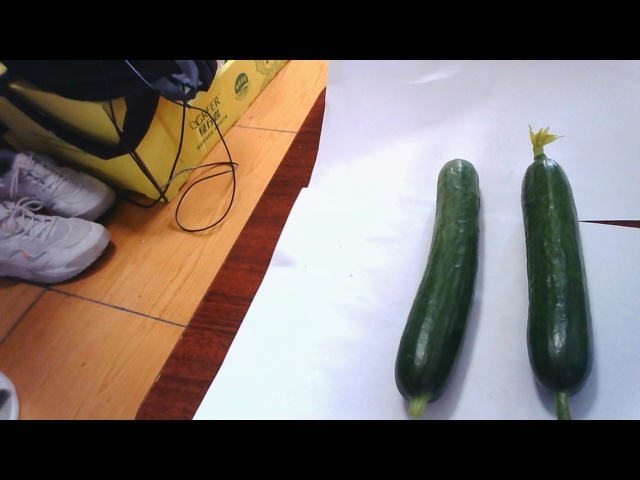cucumber: (511, 126, 603, 423), (395, 138, 487, 407)
